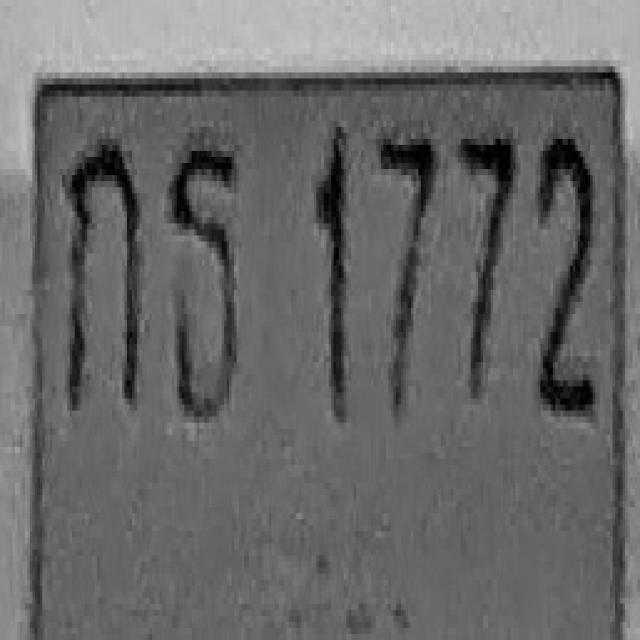1: (315, 123, 347, 420)
10GorGai: (66, 136, 141, 407)
2: (535, 130, 593, 413)
33ThorThong: (168, 136, 238, 420)
7: (378, 126, 436, 416), (458, 127, 516, 398)
